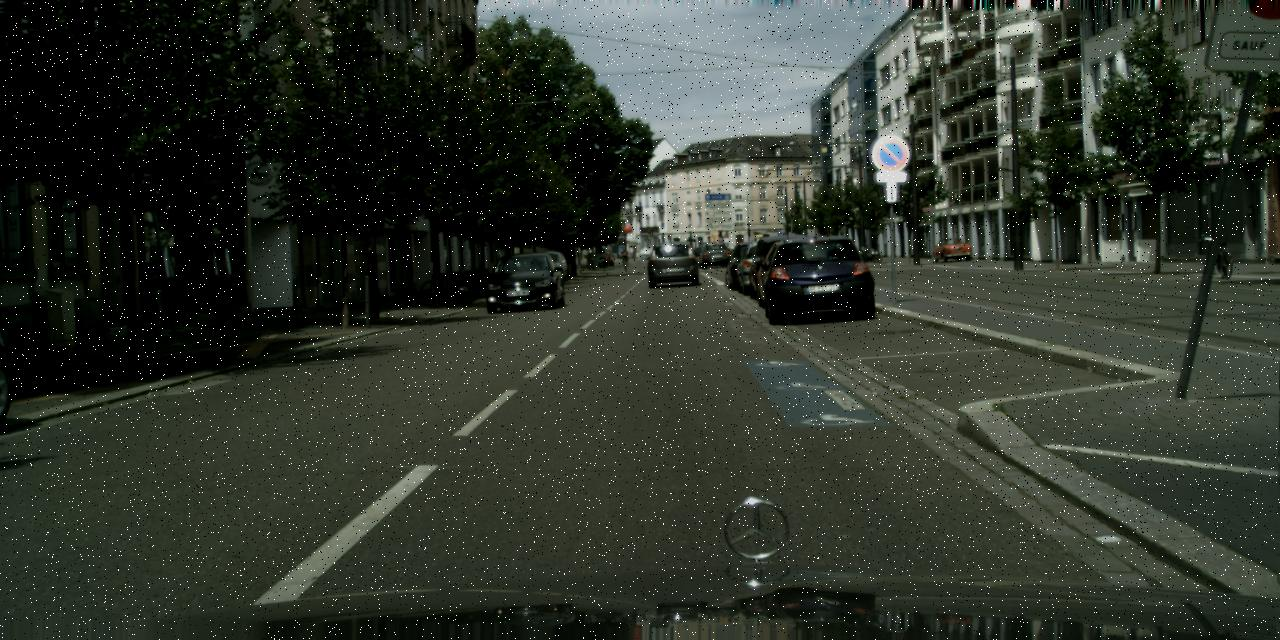ped: (620, 248, 628, 265)
